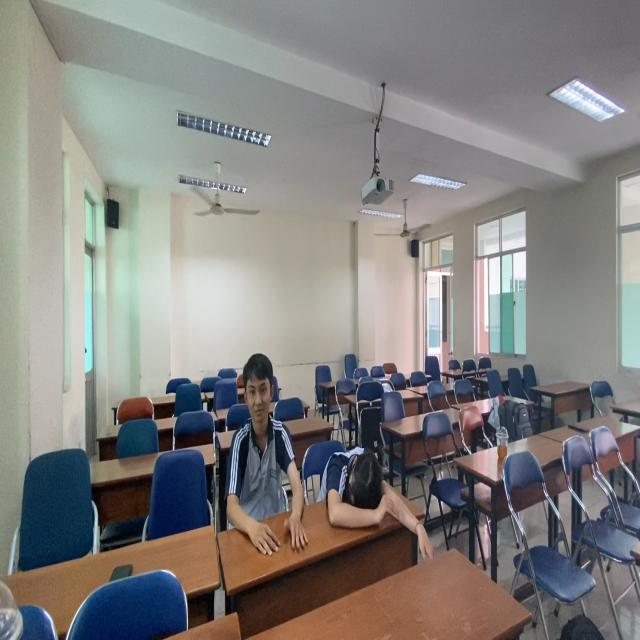sleep: (320, 446, 436, 561)
